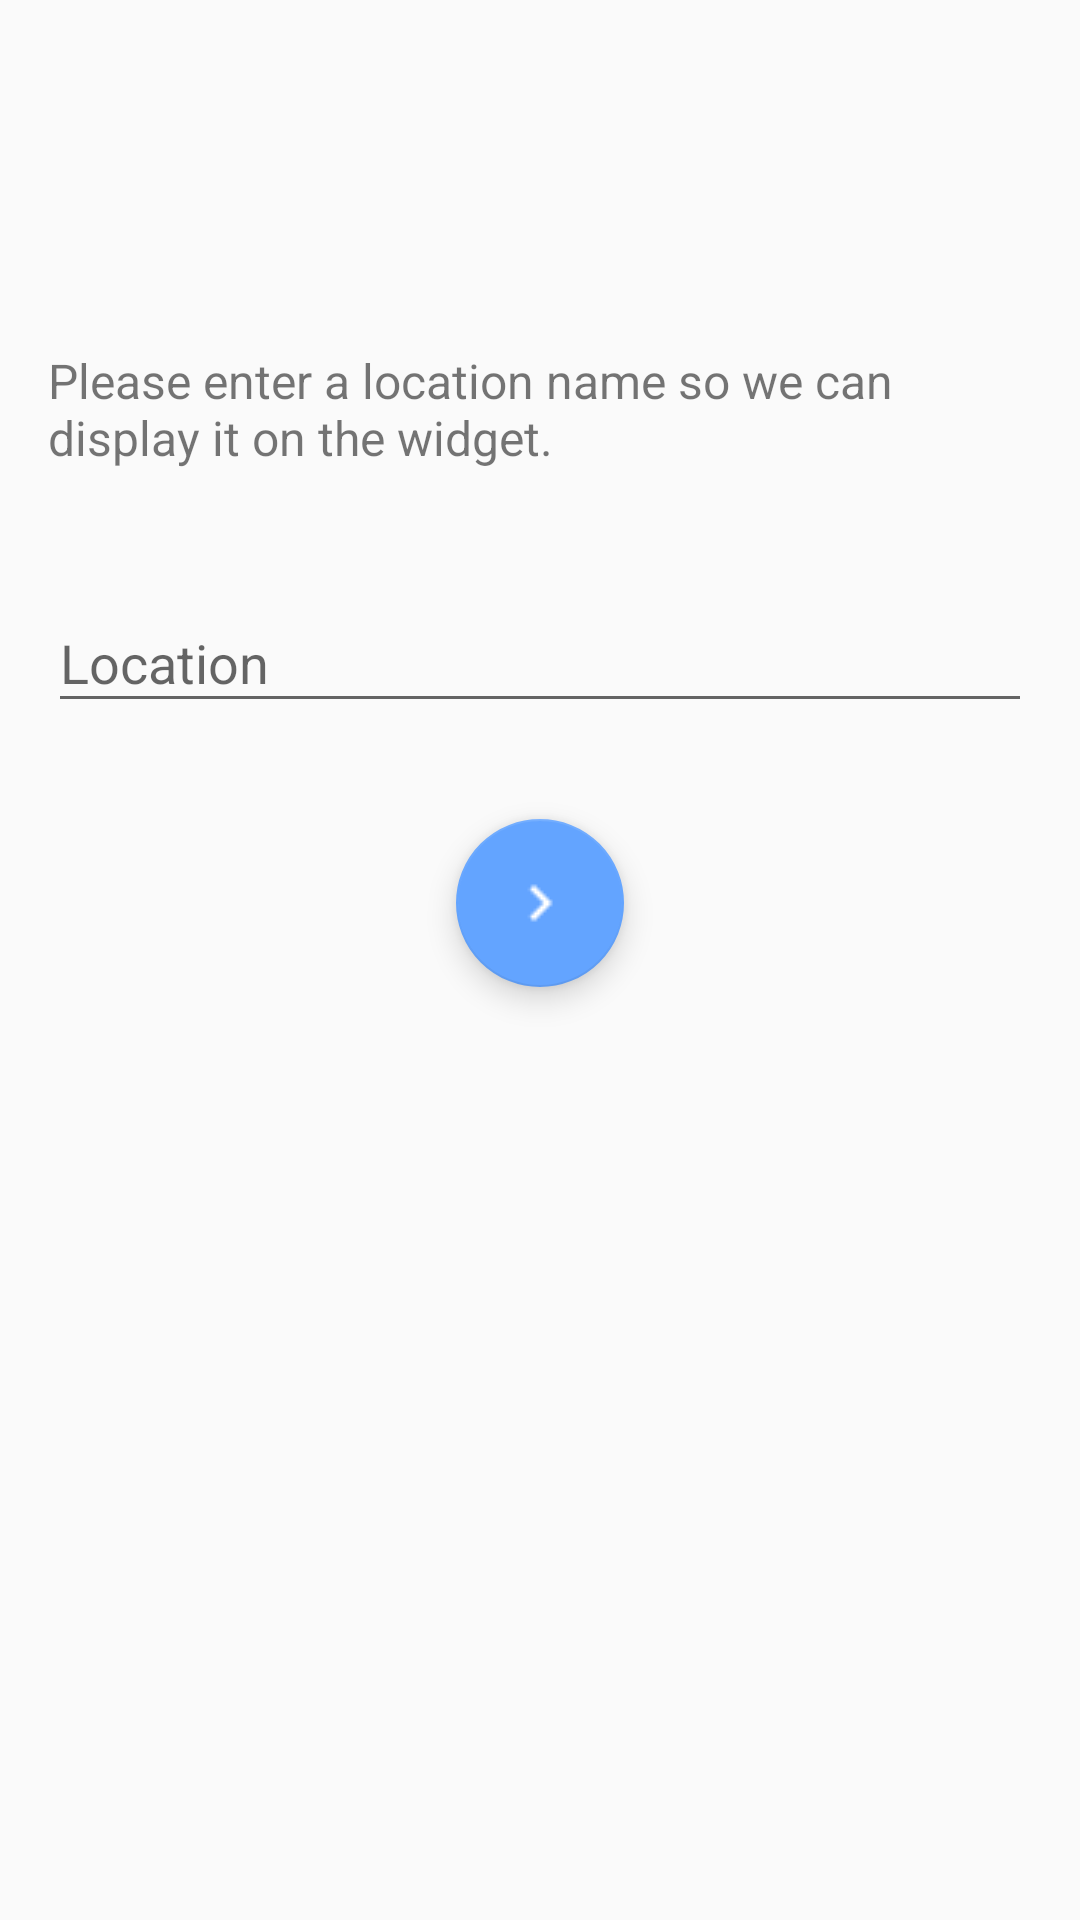

Icon bounding boxes for this 1080px x 1920px phone screenshot, format region(x1, y1, x2, y2):
chevron right: region(456, 819, 624, 987)
